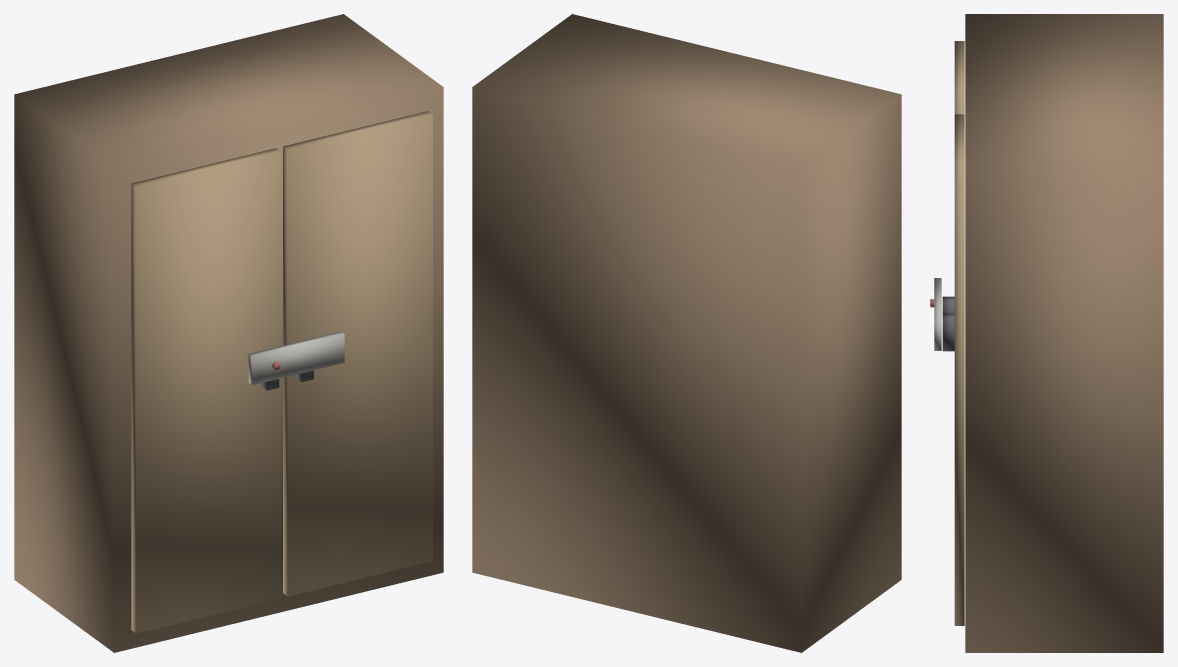
File: mechanical_control_cabinet__reinforced.glb
3 views of the same model, side by side, from view 1: azimuth 30°, elevation 25°; view 2: azimuth 150°, elevation 25°; view 3: azimuth 270°, elevation 25° (orthographic).
Visible parts, largest first — view 1: world; view 2: world; view 3: world.
Boxes of the visible parts, <box> form: world: <box>14,14,443,652</box>; world: <box>472,14,901,652</box>; world: <box>930,14,1163,652</box>.
Bounding box in the file's own units: 0.9785 × 1.38 × 0.6062.
